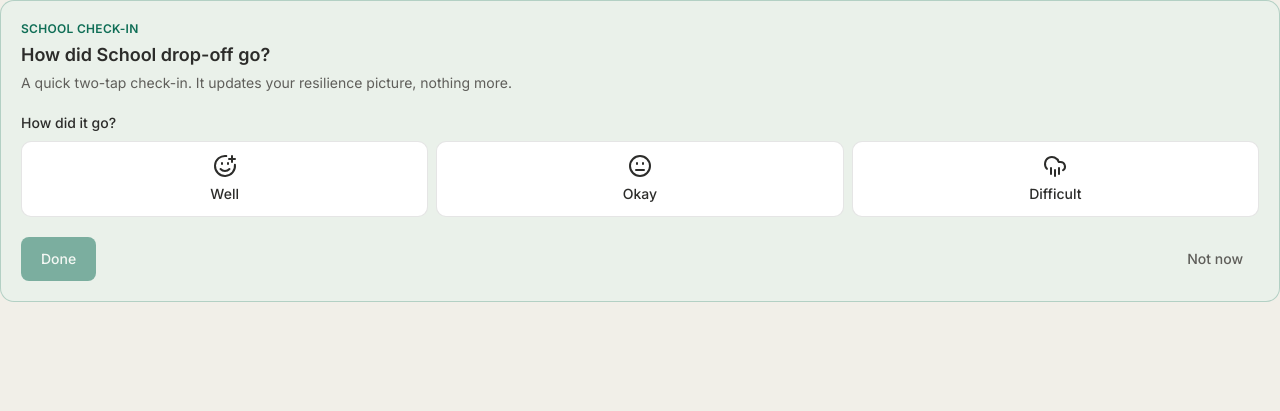
Scenario: PulseCard › frames the second question neutrally on 'Okay' with a first-class 'nothing' option
This screenshot has width=1280, height=411.
Step 1. Click the button "Okay" → (640,179), box [436,141,844,217]
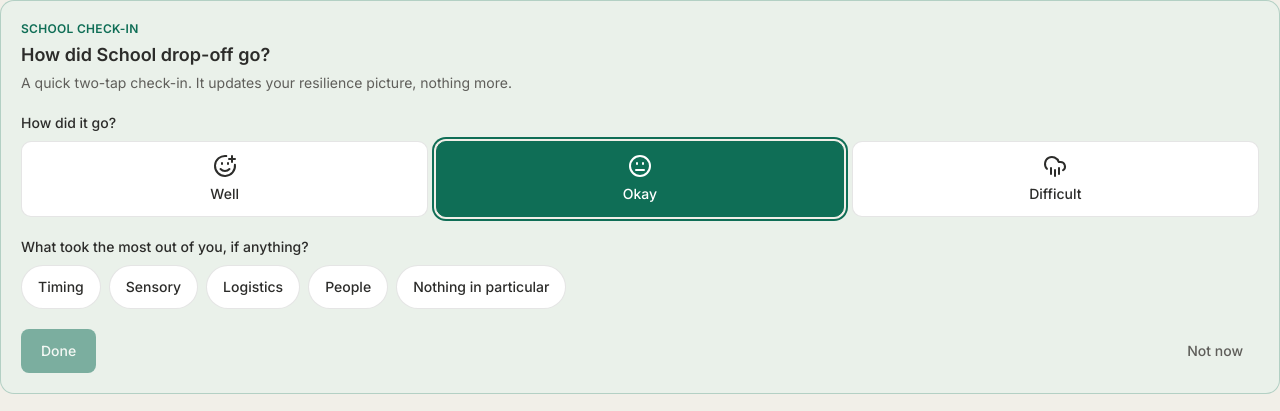
Expected: the text "What took the most out of you, if anything?" is shown, [21,237,309,257]
Expected: the button "Nothing in particular" is shown, [396,265,566,309]
